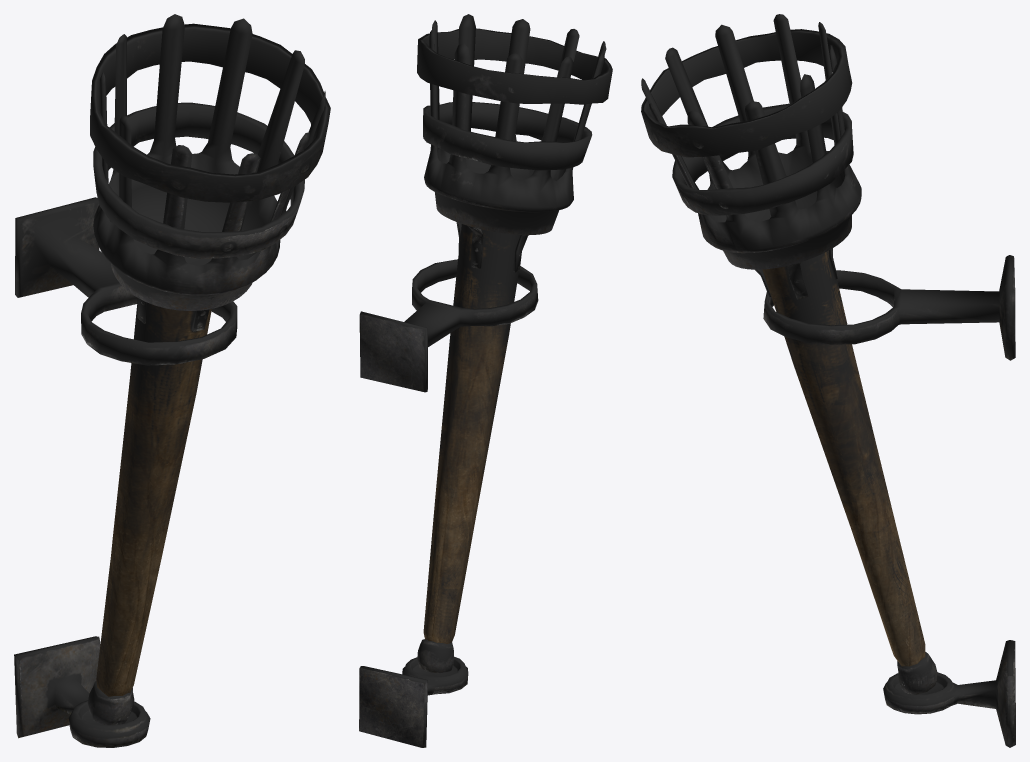
Rendered from torch_base.obj.
3 renders of one model, left to right at view 1: azimuth 30°, elevation 25°; view 2: azimuth 150°, elevation 25°; view 3: azimuth 270°, elevation 25°, orthographic. The views are drawn at different scales.
Visible parts, largest first — view 1: Torch; view 2: Torch; view 3: Torch.
Boxes of the visible parts, bbox=[...] form: Torch: bbox=[14, 14, 330, 747]; Torch: bbox=[359, 14, 612, 747]; Torch: bbox=[641, 14, 1015, 747].
Size of the model in its own units: 1.11 by 3.92 by 1.92.
